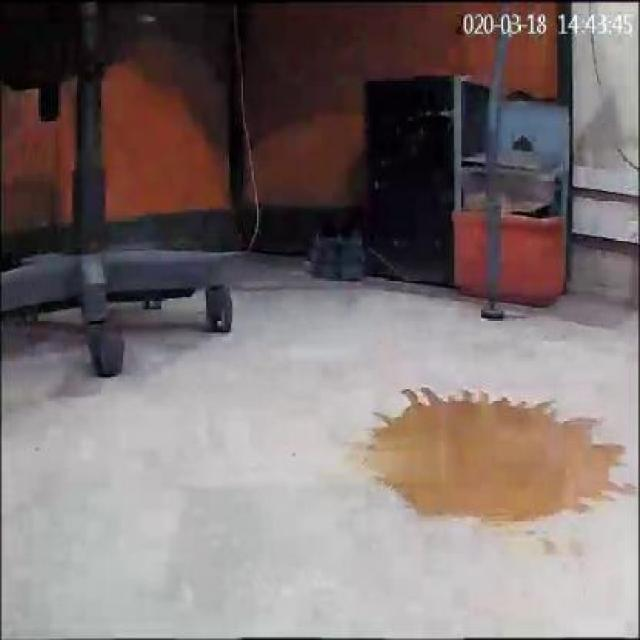spill: (358, 378, 627, 534)
